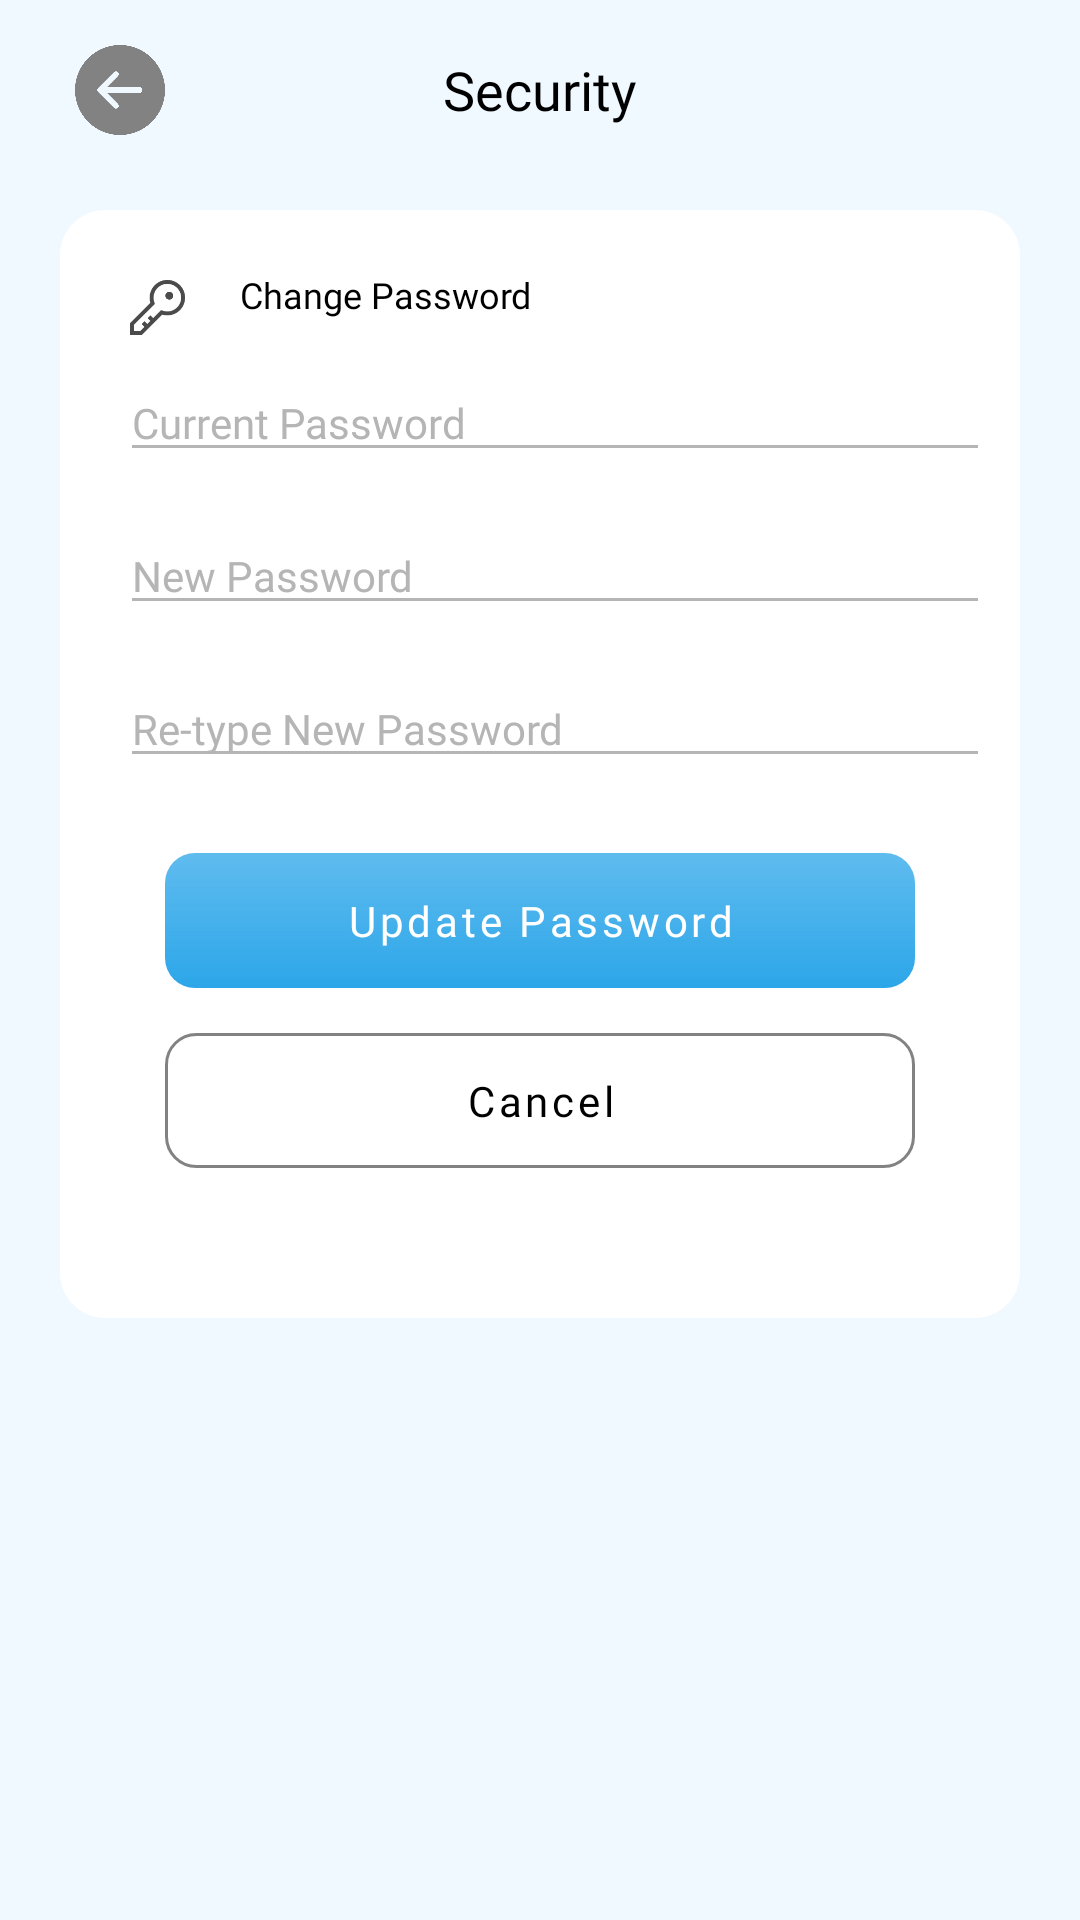

Point at icon controls on the screen. Image size 1080 x 1920, points as point (x, y).
backk: point (120, 90)
